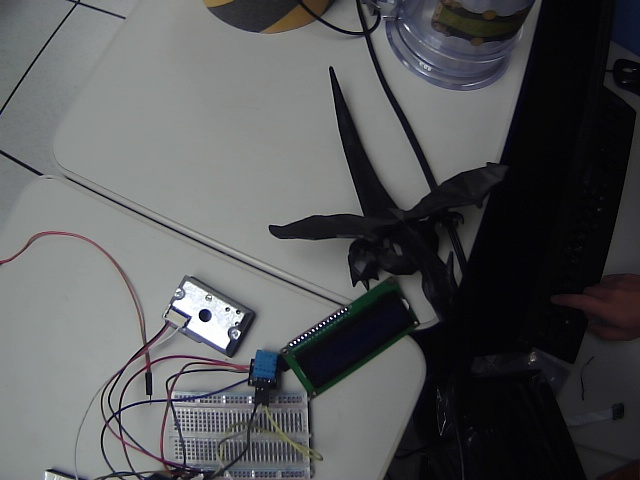charizard: (260, 64, 520, 310)
